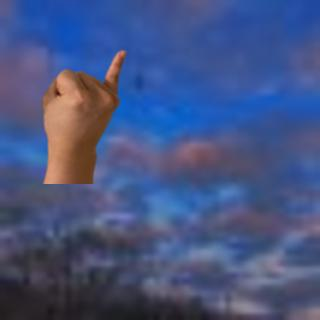FINE: (37, 46, 130, 156)
